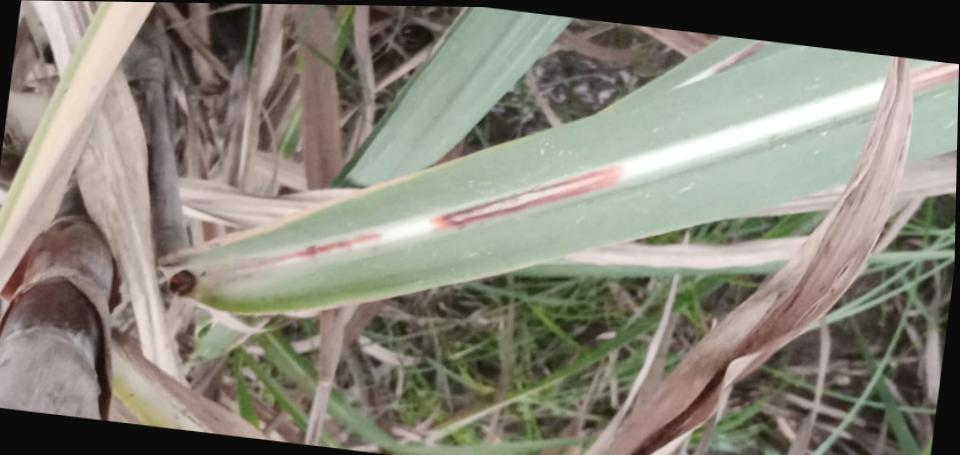RedRot: (430, 165, 621, 230), (277, 232, 381, 262), (715, 42, 764, 73), (912, 63, 959, 89)
Yellow: (214, 144, 504, 247)
